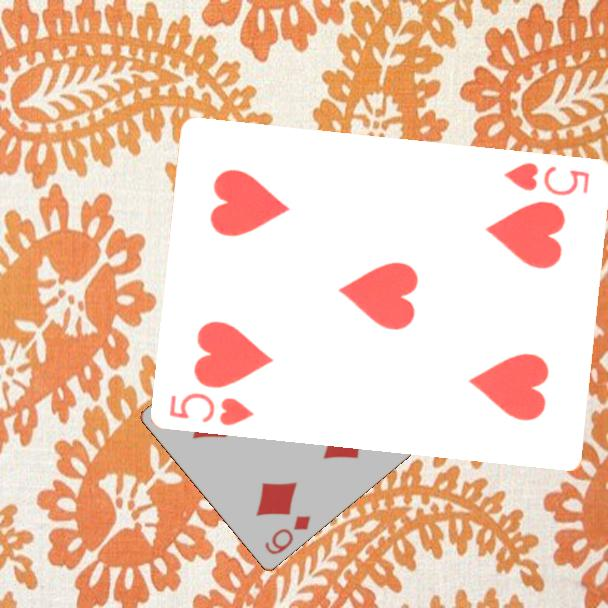d06: (261, 511, 314, 557)
h05: (501, 159, 593, 199), (166, 388, 257, 428)
